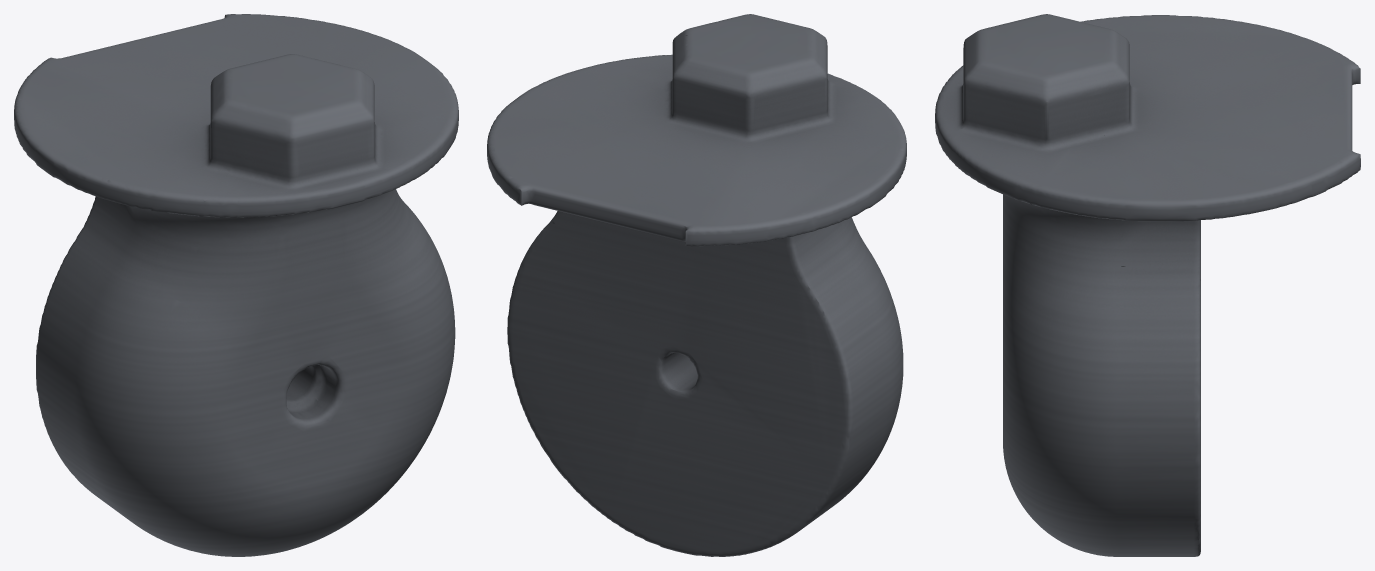
The model's file is right_elbow_inword.glb.
3 renders of one model, left to right at view 1: azimuth 30°, elevation 25°; view 2: azimuth 150°, elevation 25°; view 3: azimuth 270°, elevation 25°, orthographic. The views are drawn at different scales.
Visible parts, largest first — view 1: right_elbow_inword; view 2: right_elbow_inword; view 3: right_elbow_inword.
Part boxes in pixels (box(x1,y1,x2,y2)): right_elbow_inword: box(14, 14, 458, 556); right_elbow_inword: box(487, 14, 906, 556); right_elbow_inword: box(935, 14, 1360, 556).
Bounding box in the file's own units: 0.056 × 0.0674 × 0.0529.
1 material, 1 textured.
